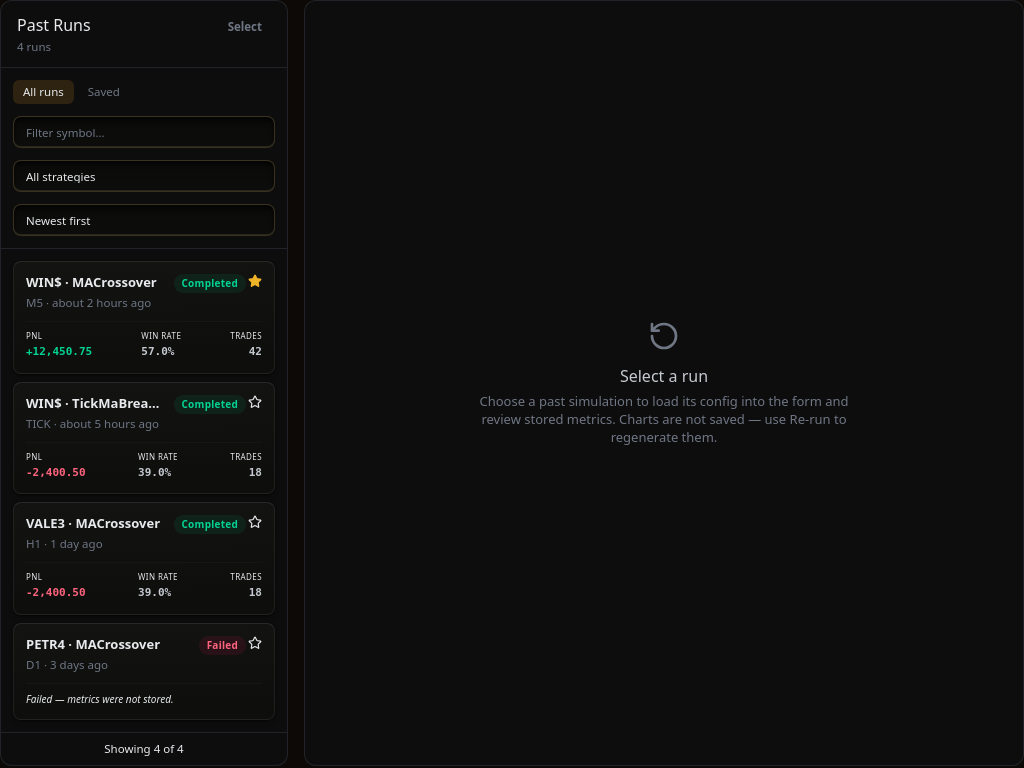
Test: BacktestHistoryPanel › enables compare at two selections
The image size is (1024, 768).
What coordinates should you click on to do the following:
click the button "Select"
I would click on:
 (245, 27)
Its box is [219,13,271,41].
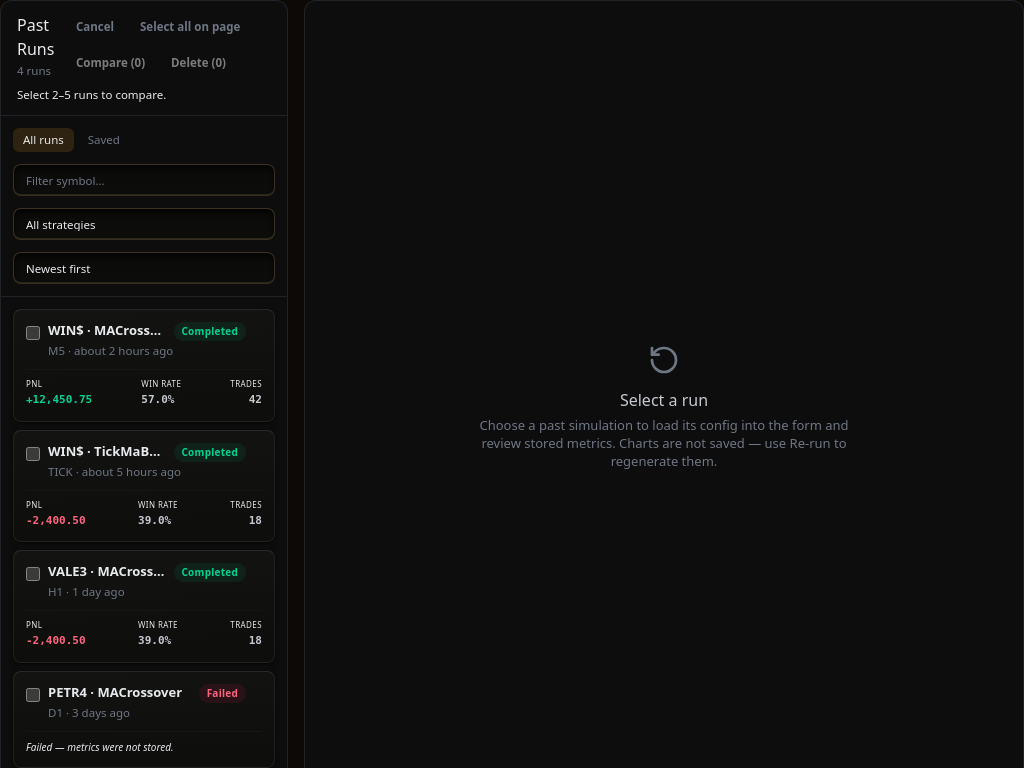
expect the button "Compare (0)" is disabled: met, box [67,49,154,77]
What coordinates should you click on to do the following:
click the 1st checkbox named "Select item"
I would click on:
 (33, 333)
Its box is [26,326,40,340].
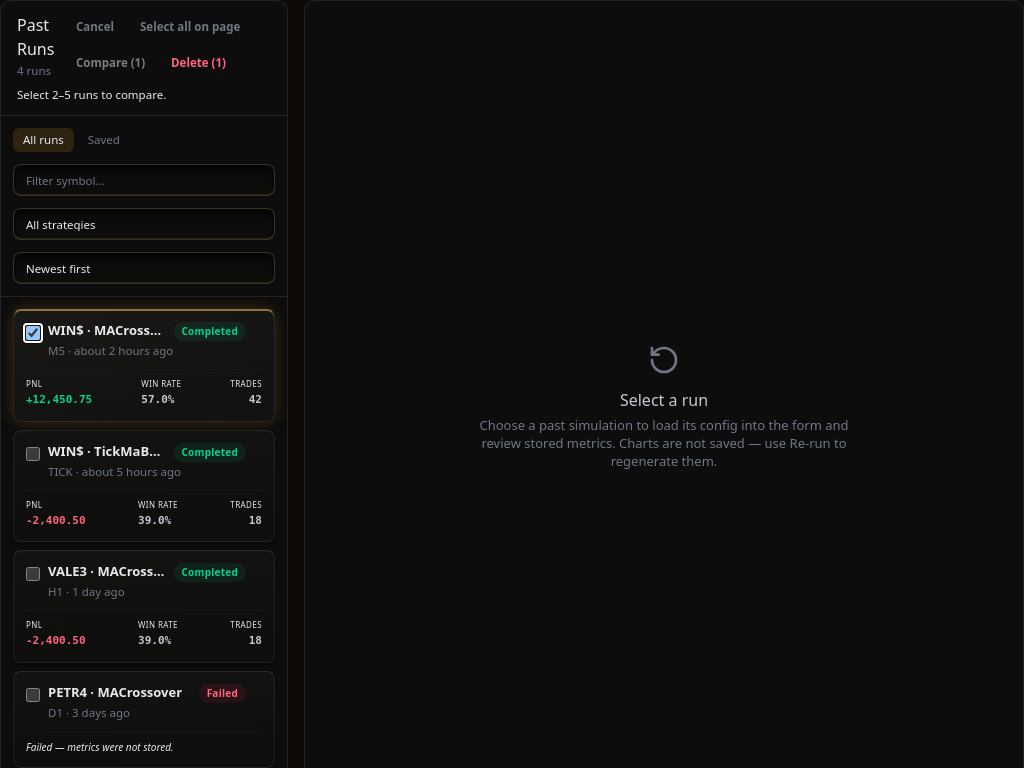
expect the button "Compare (1)" is disabled: met, box [67,49,154,77]
What coordinates should you click on to do the following:
click the 2nd checkbox named "Select item"
I would click on:
 (33, 454)
Its box is [26,446,40,460].
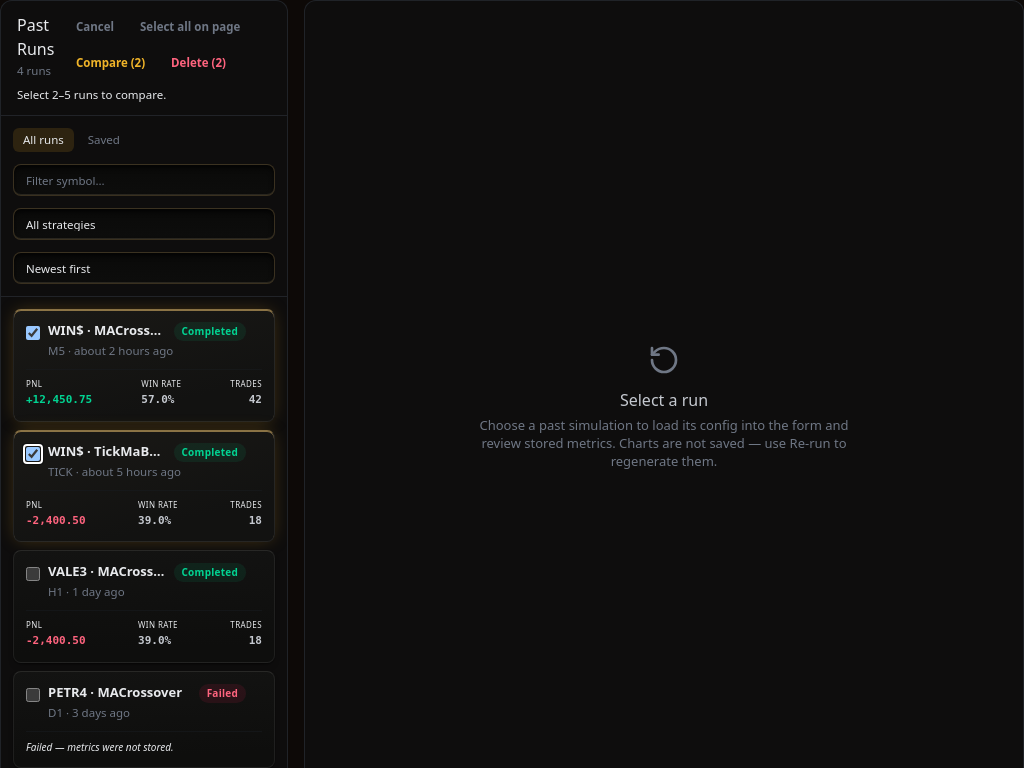
expect the text "Select 2–5 runs to compare." is shown: met, box [17,87,166,102]
expect the button "Compare (2)" is enabled: met, box [67,49,154,77]
